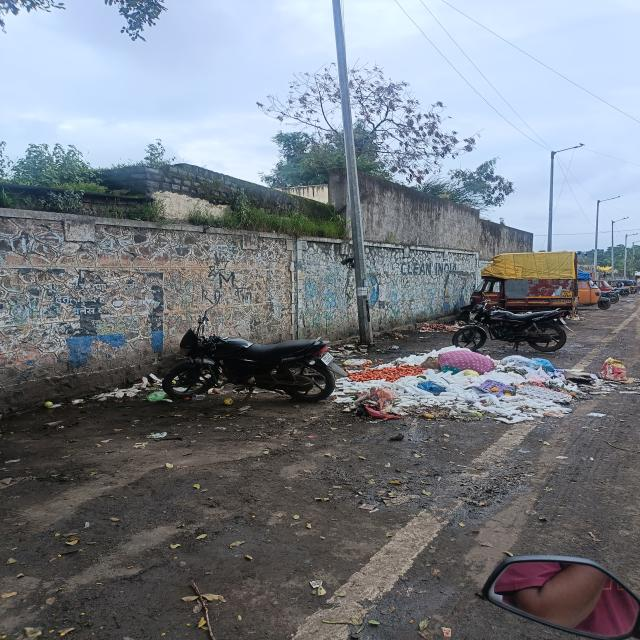garbage: (340, 350, 594, 424), (420, 322, 462, 332)
